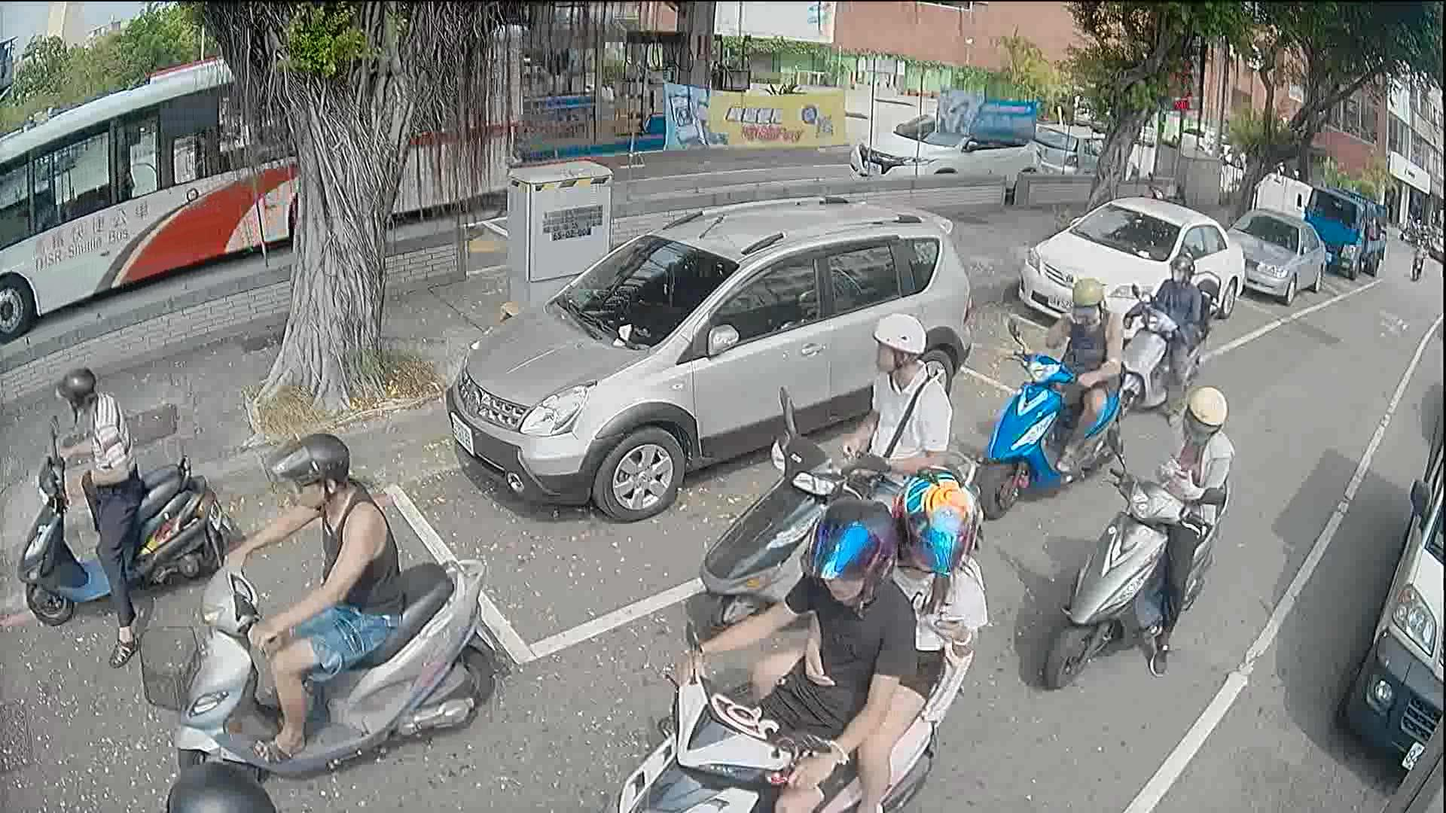person: (654, 502, 907, 812), (774, 465, 971, 812), (214, 423, 403, 769), (47, 358, 148, 659), (1130, 376, 1228, 676), (839, 312, 950, 509), (1022, 263, 1118, 474), (1149, 254, 1217, 408), (163, 743, 276, 812)
